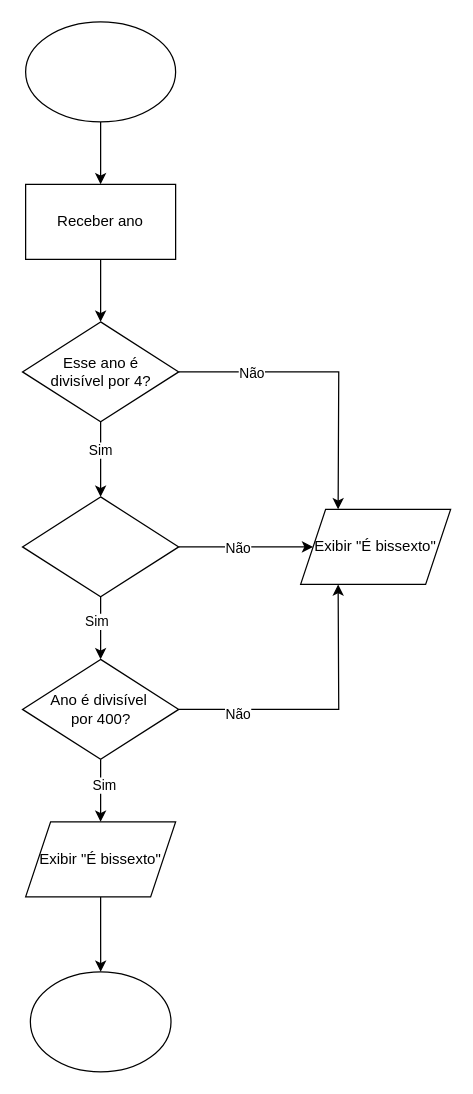
This 473x1094 diagram has some shape labels left out. Here are the shapes that lost their labels. From the top down, the box of each, then its label:
(24, 21, 176, 122): Inicio
(21, 496, 179, 597): Ano é divisível por 100?
(29, 971, 171, 1072): Fim
